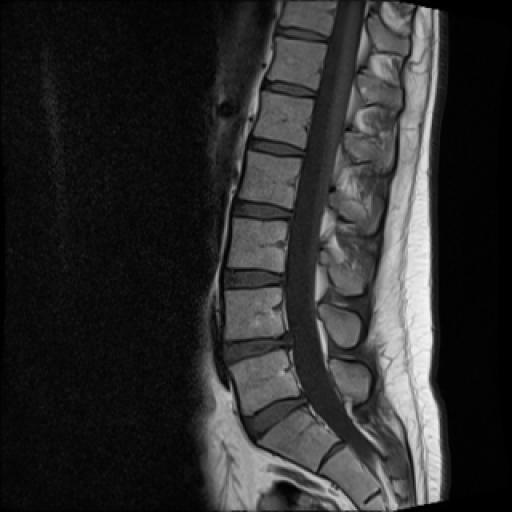L1: (254, 91, 313, 148)
L2: (239, 151, 301, 208)
L3: (227, 217, 287, 272)
L4: (225, 288, 285, 340)
L5: (230, 350, 299, 414)
S1: (258, 406, 342, 472)
